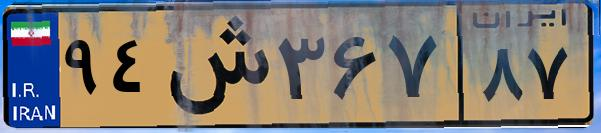3: (270, 28, 330, 110)
4: (110, 28, 158, 98)
6: (330, 28, 385, 110)
7: (385, 28, 445, 110), (525, 38, 570, 115)
8: (475, 38, 525, 113)
9: (57, 26, 110, 100)
ش: (158, 12, 270, 120)
